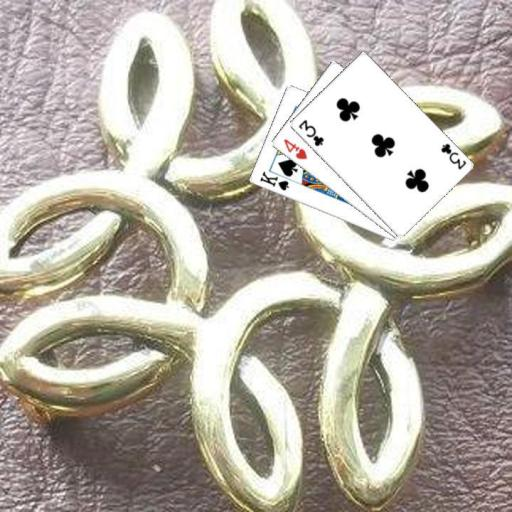3C: (437, 140, 468, 171), (295, 117, 325, 148)
4H: (280, 135, 309, 161)
KS: (256, 169, 290, 192)
